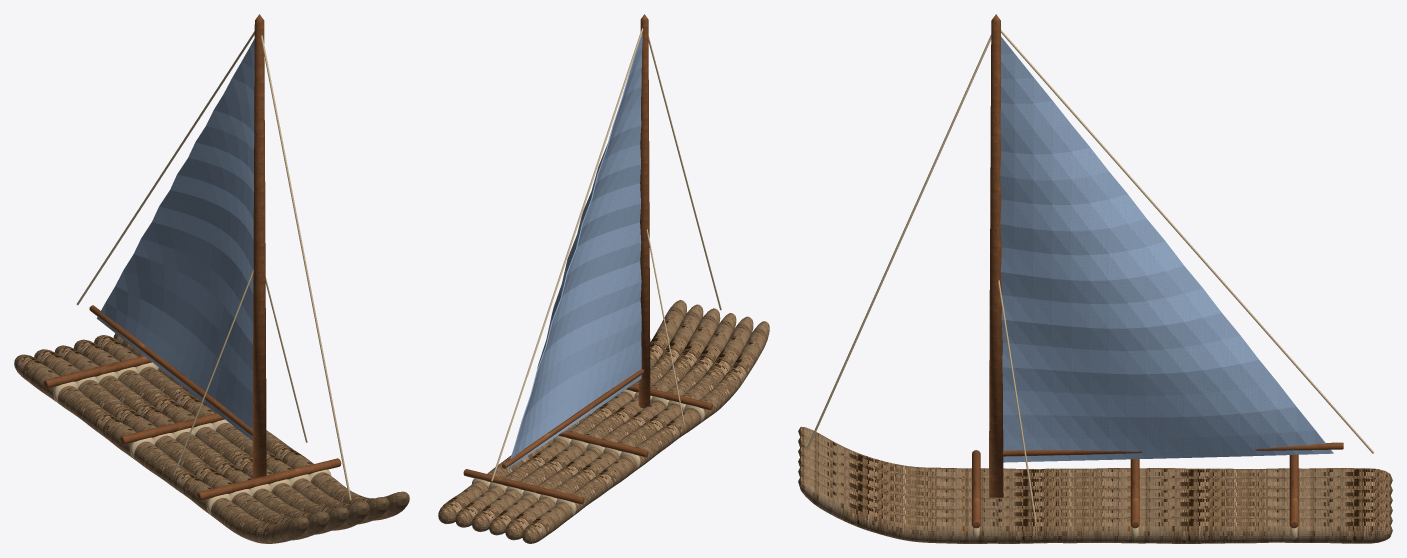
Rendered from jangada.glb.
3 renders of one model, left to right at view 1: azimuth 30°, elevation 25°; view 2: azimuth 150°, elevation 25°; view 3: azimuth 270°, elevation 25°, orthographic. The views are drawn at different scales.
Parts seen in each view (by area): view 1: jangada; view 2: jangada; view 3: jangada.
Part boxes in pixels (box(x1,y1,x2,y2)): jangada: box(14, 14, 409, 543); jangada: box(438, 14, 769, 543); jangada: box(798, 14, 1392, 543).
Bounding box in the file's own units: 1.7 × 5.6 × 5.99.
Materials: 4 (3 with a texture image).
